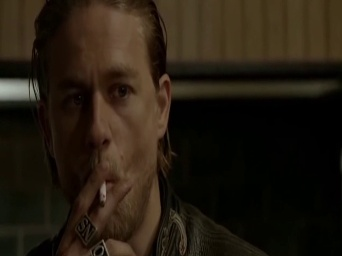smoke: (98, 177, 107, 207)
